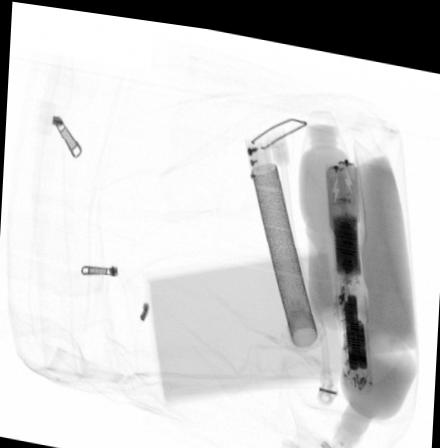Baton: (323, 147, 374, 385)
